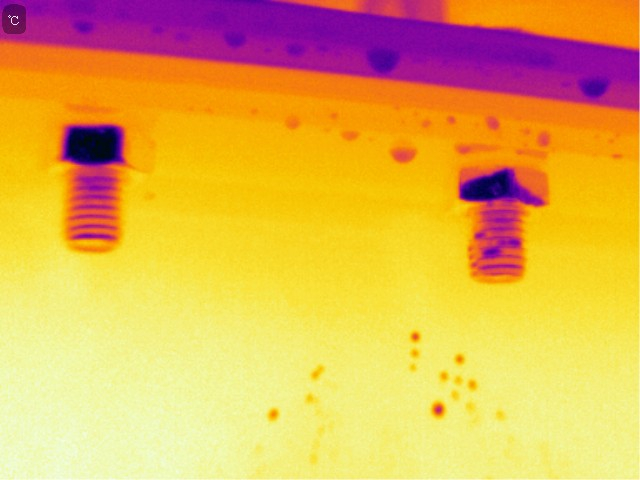Water: (425, 347, 508, 424), (306, 361, 327, 472), (576, 75, 614, 104), (367, 46, 403, 76), (387, 140, 422, 166), (406, 328, 423, 374), (260, 397, 286, 427), (478, 112, 511, 133), (68, 16, 101, 34), (222, 31, 251, 51), (536, 129, 556, 153), (339, 128, 365, 146), (281, 114, 305, 130), (283, 40, 303, 58)
